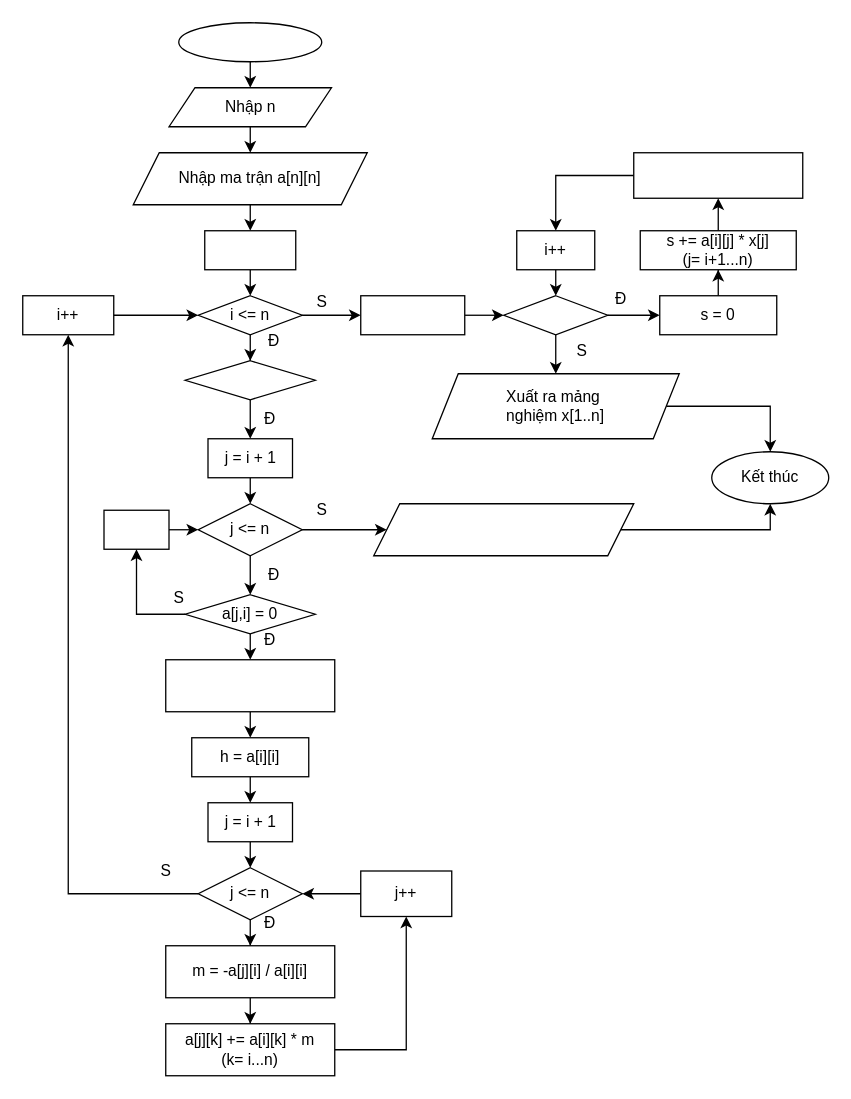
This 851x1099 diagram has some shape labels left out. Each missing label, with the centre of its shape:
a[i,i] = 0: (249,379)
Bắt đầu: (249,41)
doiHang(a, i, j, n);: (249,685)
Hệ phương trình vô nghiệm: (503,529)
i = 0: (249,249)
i = n -1: (412,314)
i >= 0: (555,314)
j ++: (136,529)
x[i] = (a[i][n] - s) / a[i][i]: (717,174)
